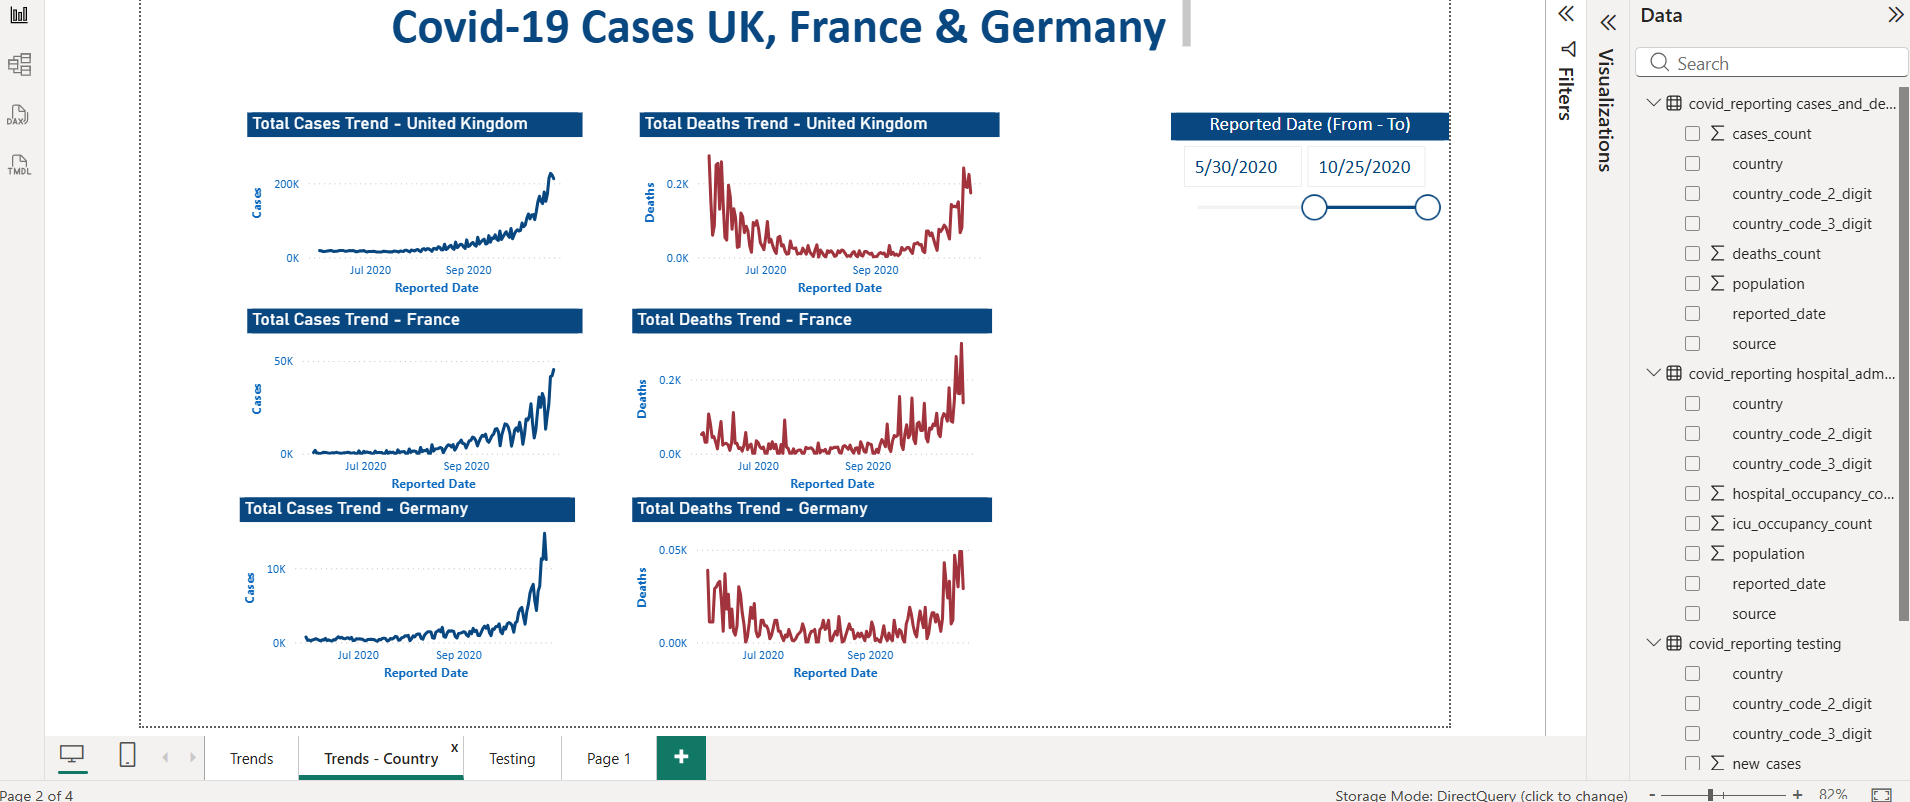

This screenshot's page, from the dashboard's own definition file:
{"tool":"powerbi","page":{"name":"Trends - Country","canvas":[1280,720],"ordinal":1},"visuals":[{"type":"lineChart","title":"Total Cases Trend - United Kingdom","fields":{"Category":["covid_reporting cases_and_deaths.reported_date"],"Y":["Sum(covid_reporting cases_and_deaths.cases_count)"]},"box":[104,120,328,184],"z":0},{"type":"slicer","title":"Reported Date (From - To)","fields":{"Values":["covid_reporting cases_and_deaths.reported_date"]},"box":[1008,120,272,112],"z":1000},{"type":"lineChart","title":"Total Cases Trend - France","fields":{"Category":["covid_reporting cases_and_deaths.reported_date"],"Y":["Sum(covid_reporting cases_and_deaths.cases_count)"]},"box":[104,312,328,184],"z":2000},{"type":"lineChart","title":"Total Cases Trend - Germany","fields":{"Category":["covid_reporting cases_and_deaths.reported_date"],"Y":["Sum(covid_reporting cases_and_deaths.cases_count)"]},"box":[96,496,328,184],"z":3000},{"type":"lineChart","title":"Total Deaths Trend - United Kingdom","fields":{"Category":["covid_reporting cases_and_deaths.reported_date"],"Y":["Sum(covid_reporting cases_and_deaths.deaths_count)"]},"box":[488,120,352,184],"z":4000},{"type":"lineChart","title":"Total Deaths Trend - France","fields":{"Category":["covid_reporting cases_and_deaths.reported_date"],"Y":["Sum(covid_reporting cases_and_deaths.deaths_count)"]},"box":[480,312,352,184],"z":5000},{"type":"lineChart","title":"Total Deaths Trend - Germany","fields":{"Category":["covid_reporting cases_and_deaths.reported_date"],"Y":["Sum(covid_reporting cases_and_deaths.deaths_count)"]},"box":[480,496,352,184],"z":6000},{"type":"textbox","box":[240,0,792,64],"z":7000}]}

Visuals, with their boxes on the page's 1280x720 design canvas (x1, y1, x2, y2). These are canvas units, not pixel positions in the 1910x802 screenshot, which may show the page scaled, cropped or inside an application window:
"Total Cases Trend - United Kingdom" lineChart: [x1=104, y1=120, x2=432, y2=304]
"Reported Date (From - To)" slicer: [x1=1008, y1=120, x2=1280, y2=232]
"Total Cases Trend - France" lineChart: [x1=104, y1=312, x2=432, y2=496]
"Total Cases Trend - Germany" lineChart: [x1=96, y1=496, x2=424, y2=680]
"Total Deaths Trend - United Kingdom" lineChart: [x1=488, y1=120, x2=840, y2=304]
"Total Deaths Trend - France" lineChart: [x1=480, y1=312, x2=832, y2=496]
"Total Deaths Trend - Germany" lineChart: [x1=480, y1=496, x2=832, y2=680]
textbox: [x1=240, y1=0, x2=1032, y2=64]
